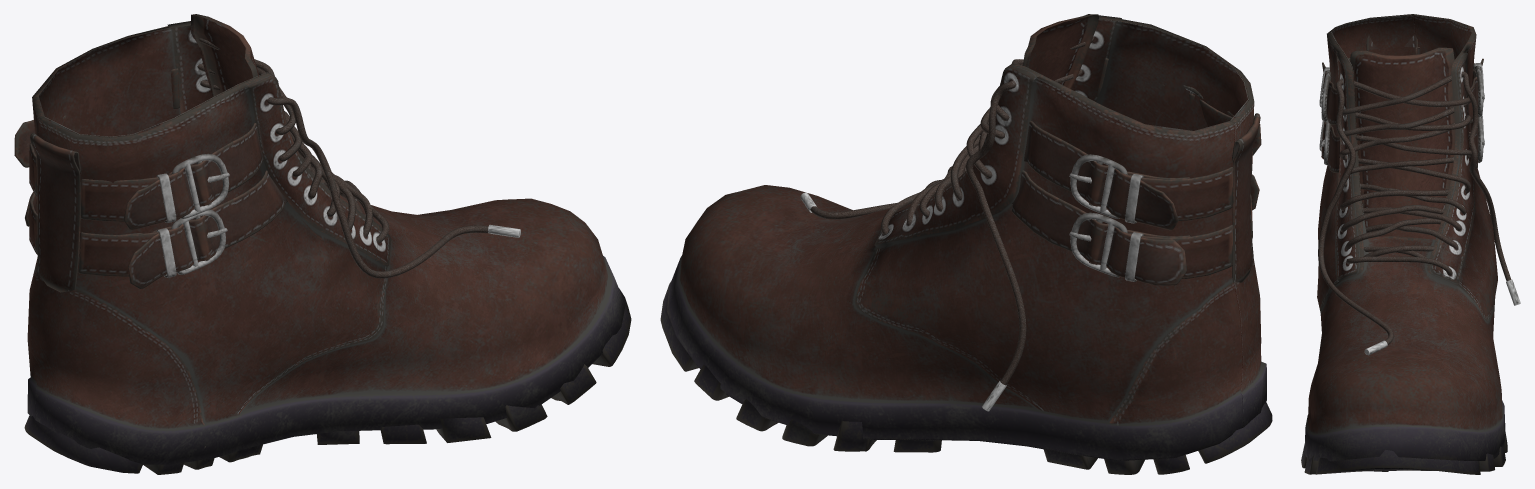
File: leather-shoes.gltf
3 views of the same model, side by side, from view 1: azimuth 30°, elevation 25°; view 2: azimuth 150°, elevation 25°; view 3: azimuth 270°, elevation 25° (orthographic). The views are drawn at different scales.
Parts seen in each view (by area): view 1: choose, choose.001, Cube.003, Cube.006, Daygiayb, Cube.000, Cube.025, Cube.001, BezierCircle.004, BezierCircle.005, Cube.027; view 2: choose, choose.001, Cube.030, Daygiayb, Cube.027, Cube.028, Cube.003, Cube.031, BezierCircle.007, BezierCircle.006; view 3: choose, Daygiayb, choose.001, Cube.006, Cube.000, BezierCircle.006, BezierCircle.004, Cube.027, BezierCircle.007.
Part boxes in pixels (bbox=[...]): choose: bbox=[27, 14, 625, 464]; choose.001: bbox=[24, 288, 631, 474]; Cube.003: bbox=[30, 133, 81, 292]; Cube.006: bbox=[128, 170, 287, 288]; Daygiayb: bbox=[192, 35, 489, 278]; Cube.000: bbox=[123, 123, 265, 229]; Cube.025: bbox=[78, 226, 171, 276]; Cube.001: bbox=[80, 172, 173, 221]; BezierCircle.004: bbox=[172, 153, 229, 218]; BezierCircle.005: bbox=[171, 209, 227, 274]; Cube.027: bbox=[14, 68, 179, 167]; choose: bbox=[667, 14, 1266, 460]; choose.001: bbox=[660, 282, 1272, 474]; Cube.030: bbox=[1011, 170, 1187, 285]; Daygiayb: bbox=[810, 37, 1093, 385]; Cube.027: bbox=[1024, 120, 1178, 230]; Cube.028: bbox=[1126, 167, 1233, 220]; Cube.003: bbox=[1232, 113, 1260, 282]; Cube.031: bbox=[1126, 224, 1233, 278]; BezierCircle.007: bbox=[1069, 212, 1127, 277]; BezierCircle.006: bbox=[1069, 154, 1127, 218]; choose: bbox=[1304, 14, 1505, 461]; Daygiayb: bbox=[1318, 71, 1511, 345]; choose.001: bbox=[1301, 431, 1507, 474]; Cube.006: bbox=[1321, 121, 1339, 172]; Cube.000: bbox=[1321, 62, 1338, 124]; BezierCircle.006: bbox=[1474, 65, 1484, 117]; BezierCircle.004: bbox=[1320, 70, 1331, 121]; Cube.027: bbox=[1468, 58, 1483, 123]; BezierCircle.007: bbox=[1477, 117, 1484, 162].
Size of the model in its own units: 47.58 by 32.44 by 19.74.
